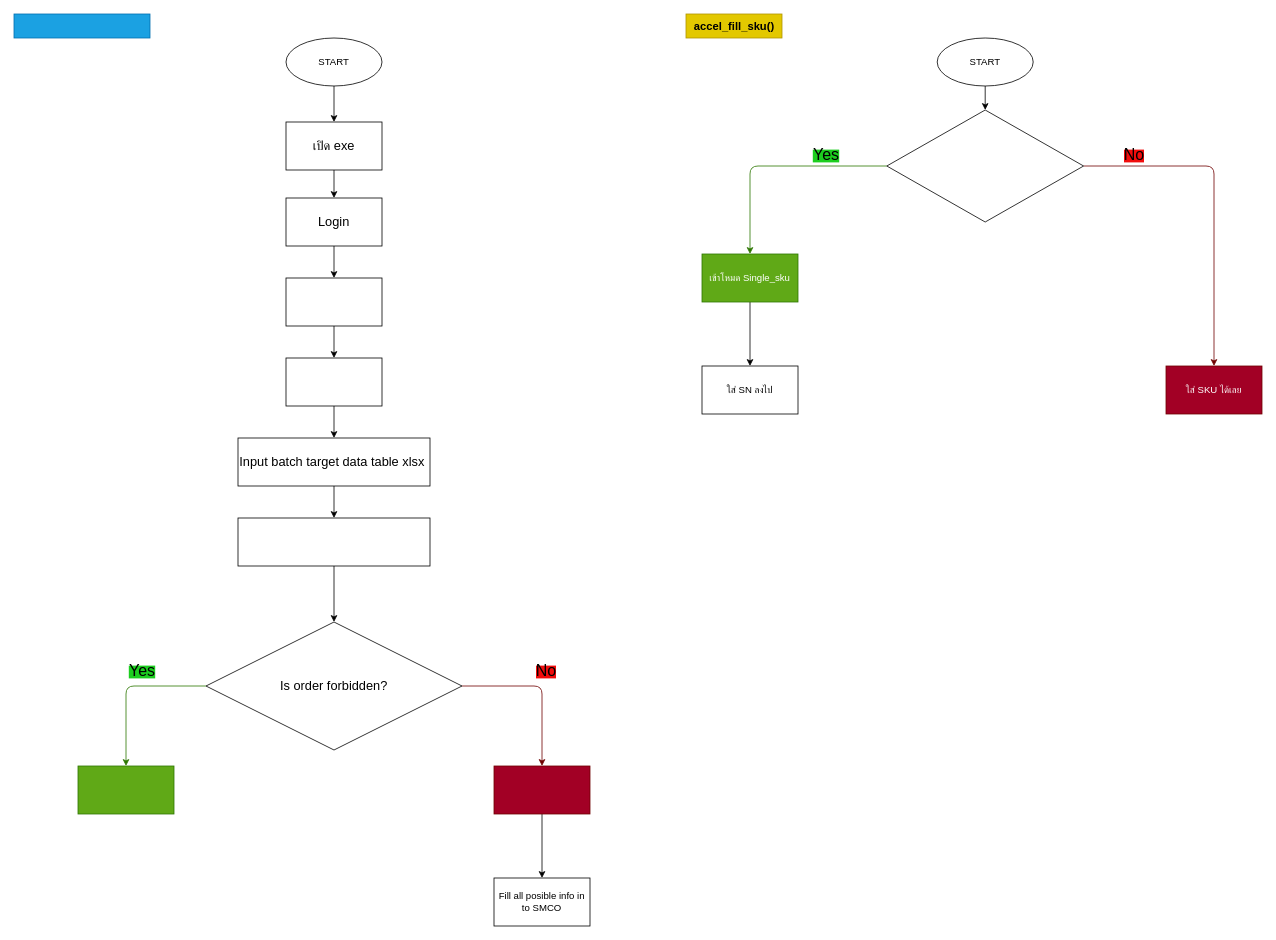
Image size: 1276x940. Some labels were removed from this diagram. The shapes that lost their labels are listed below. From the top down, each one's centre as x and y in pixels, then its label:
point 81,25: Overview accel mode
point 985,165: มี SN ใน Accel_file หรือไม่
point 333,301: Define Data Based
point 333,381: Select Accel_mode
point 333,541: Press "Start" btn to execute operation
point 541,789: Display Order details in the GUI
